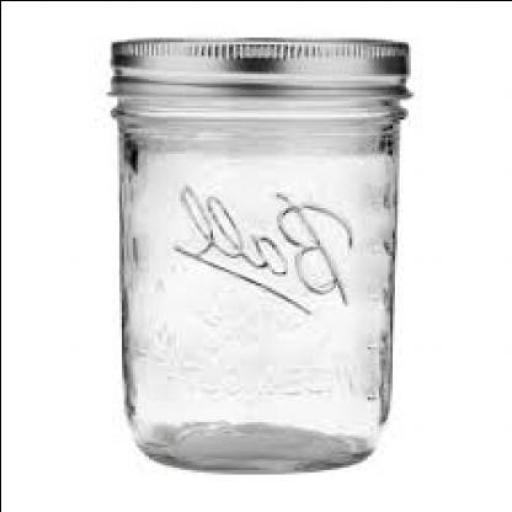glass: (109, 84, 414, 471)
metal: (114, 34, 412, 87)
